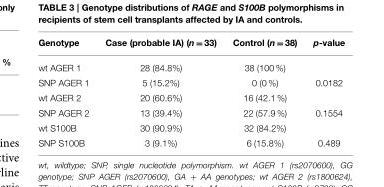table: (37, 37, 344, 147)
table column: (96, 37, 223, 147), (223, 37, 304, 147), (37, 37, 96, 147), (304, 37, 344, 147)
table column header: (37, 37, 344, 55)
table row: (37, 55, 344, 75), (37, 37, 344, 55), (37, 75, 344, 90), (37, 90, 344, 105), (37, 105, 344, 120), (37, 120, 344, 135), (37, 135, 344, 147)
